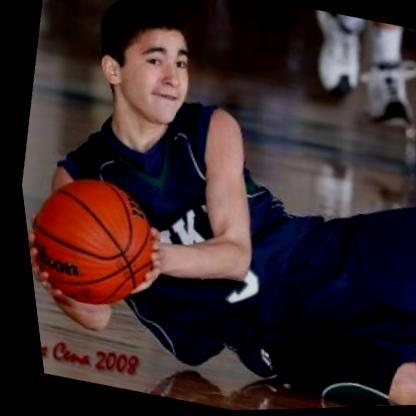basketball: (15, 159, 177, 332)
